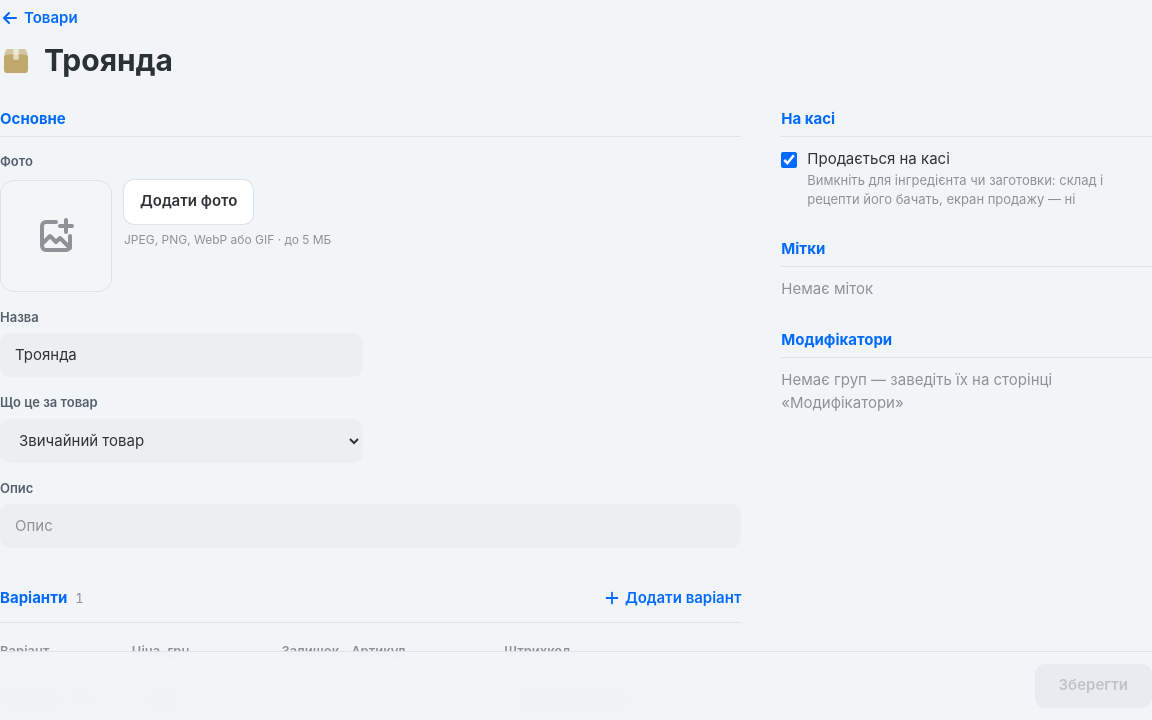
Test: a vertical with no size — the one-variant form › keeps the one-variant form instead of the matrix, and asks for its price
Expected: the button "Зберегти" is shown, [1034, 664, 1151, 708]
Click the button "Додати варіант". click: point(672, 598)
box: [603, 580, 741, 616]
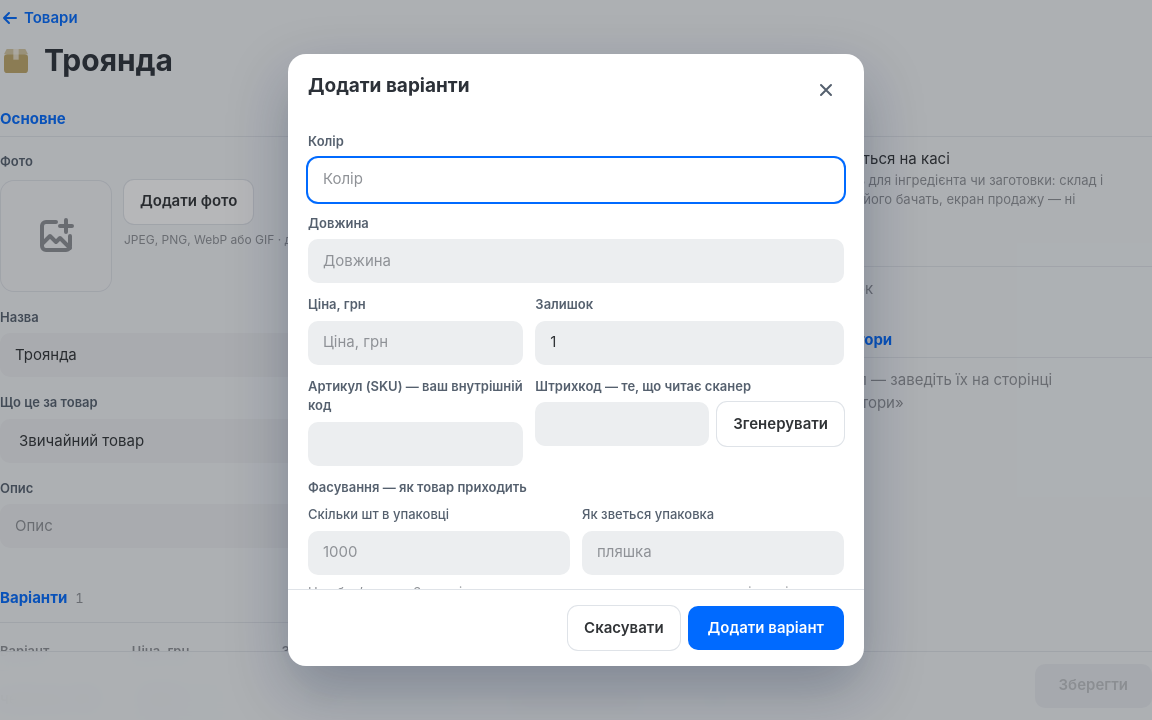
Click the button "Додати варіант". click: point(766, 628)
box: [688, 606, 844, 650]
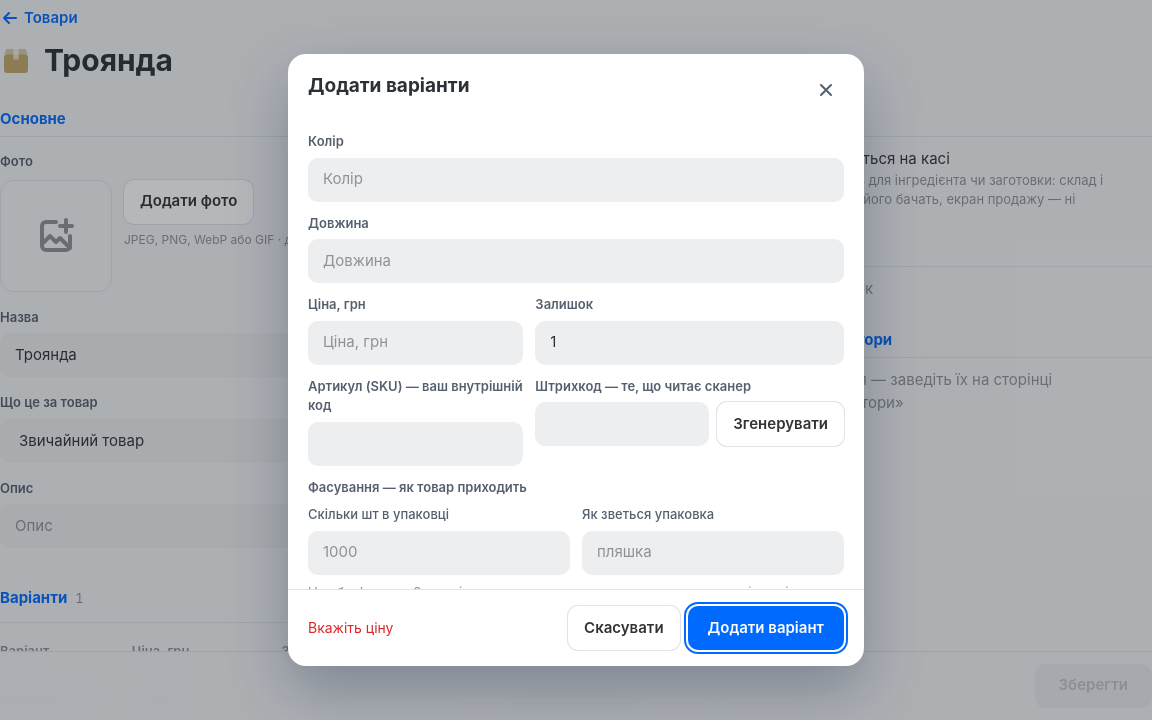
Expected: the text "Вкажіть ціну" is shown, [308, 618, 394, 638]
